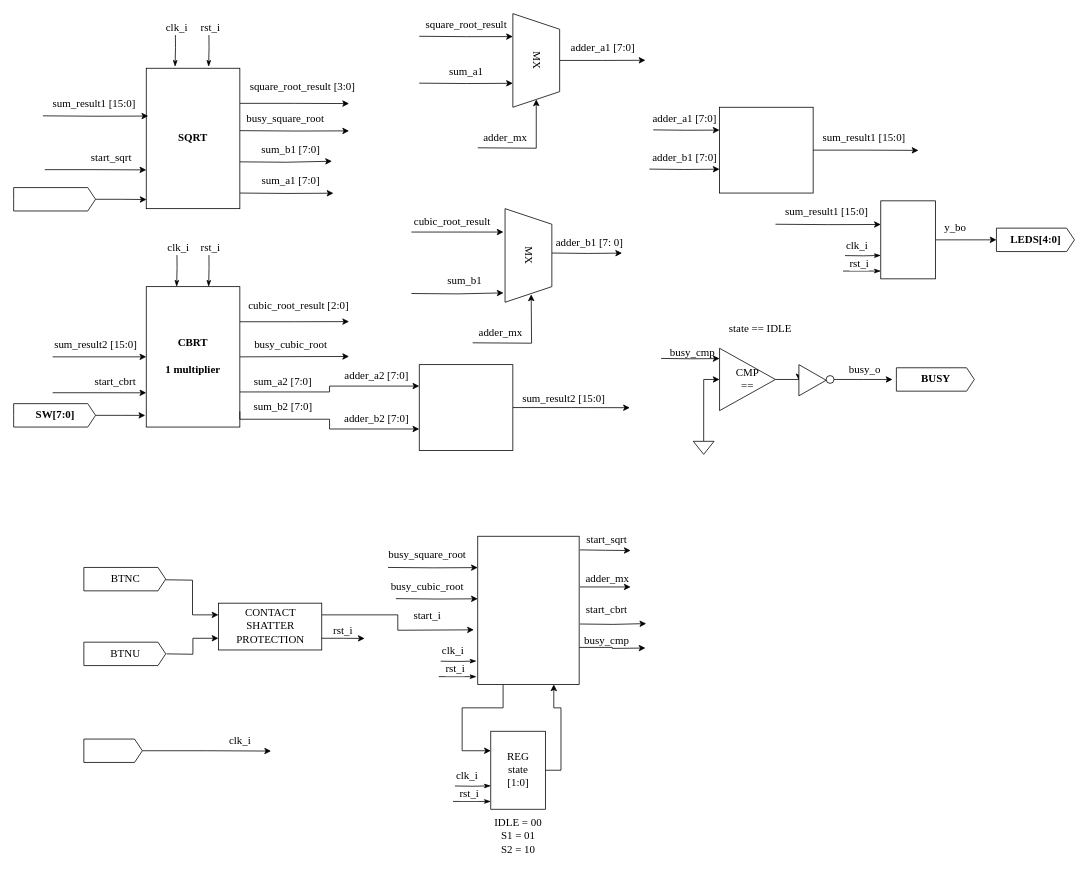
Image size: 1088x870. Some labels were removed from this diagram. Here are the shapes that lost their labels. From the top down, the box of each, then its label:
(719, 106, 813, 193): ADDER_1 adder
(13, 187, 96, 211): SW[15:8]
(880, 200, 935, 279): REG y_bo [4:0]
(418, 364, 513, 450): ADDER_2 adder
(477, 535, 579, 684): CONTROL UNIT
(83, 738, 142, 762): CLK
